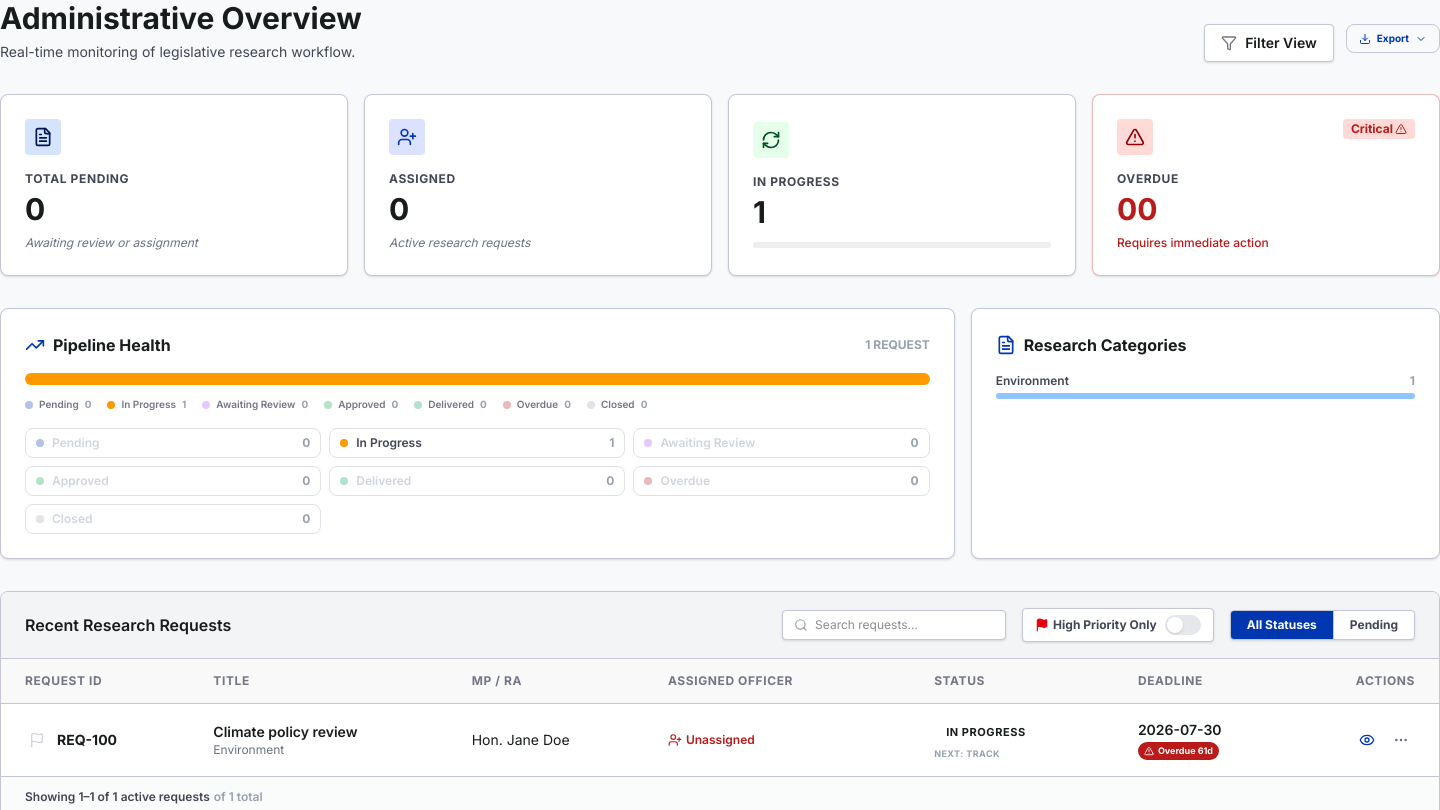
Test: AdminDashboardView › opens a details modal when the view action is clicked
The width and height of the screenshot is (1440, 810).
Click the button named "view details": (1367,740) [1353, 726, 1381, 754]
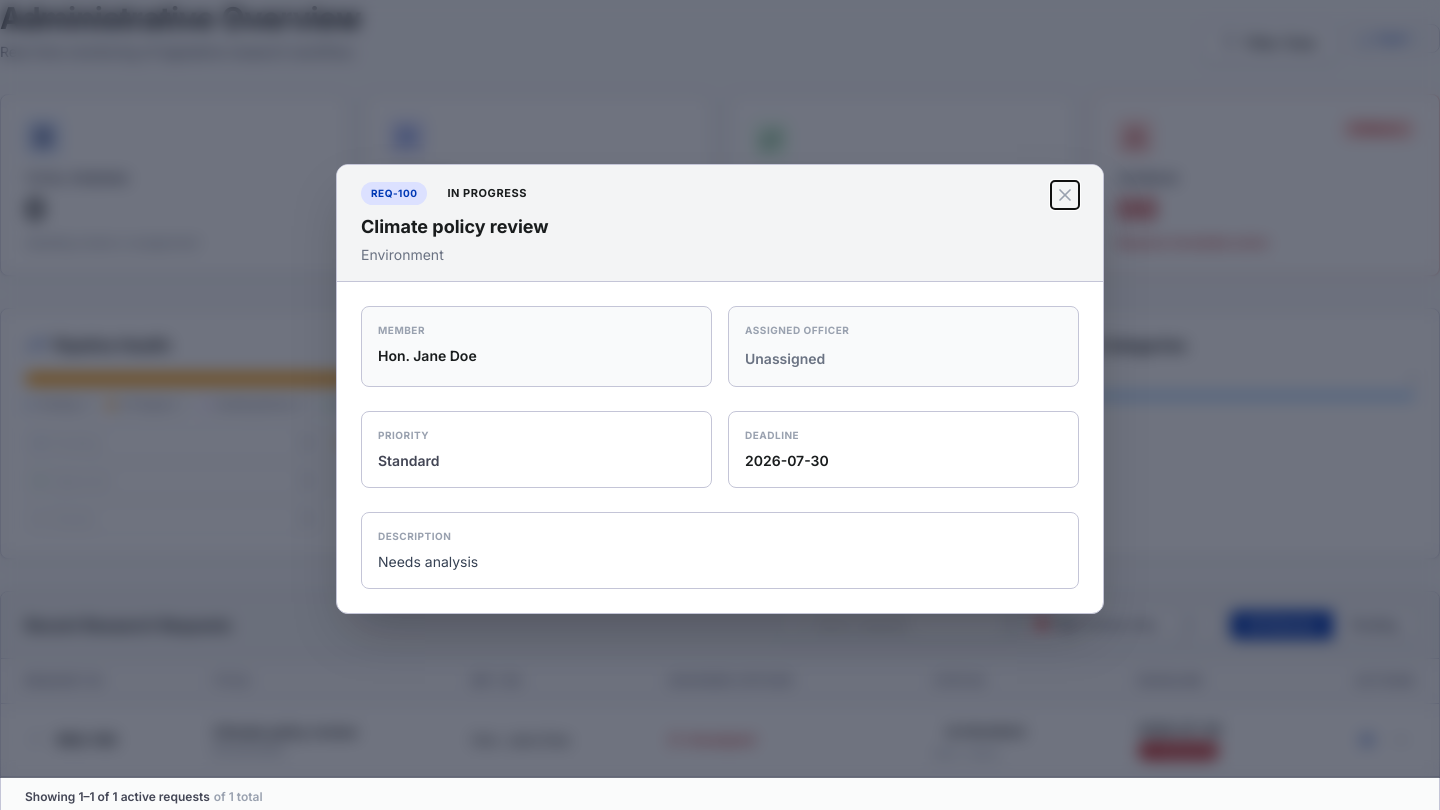
Expected: the heading "Climate policy review" is shown, [361, 213, 549, 241]
Expected: the text "Needs analysis" is shown, [378, 553, 478, 570]
